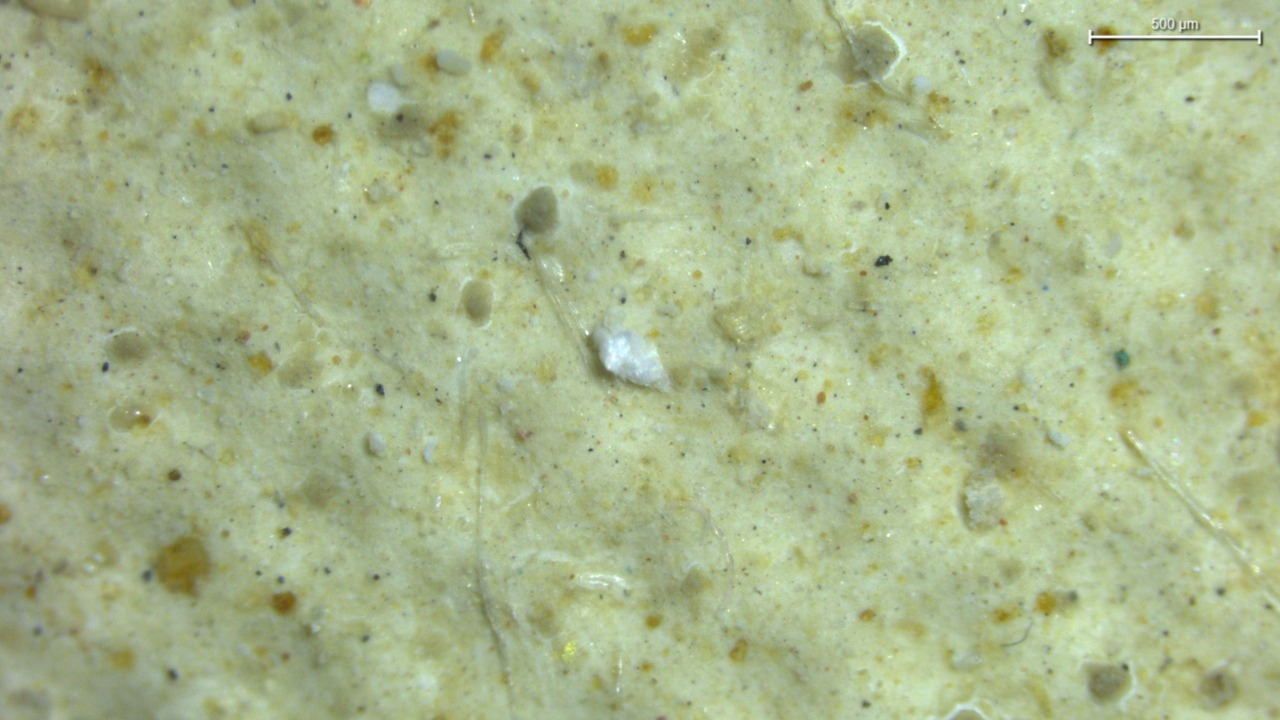microplastic_fragment: (592, 325, 670, 390), (961, 466, 1005, 530)
